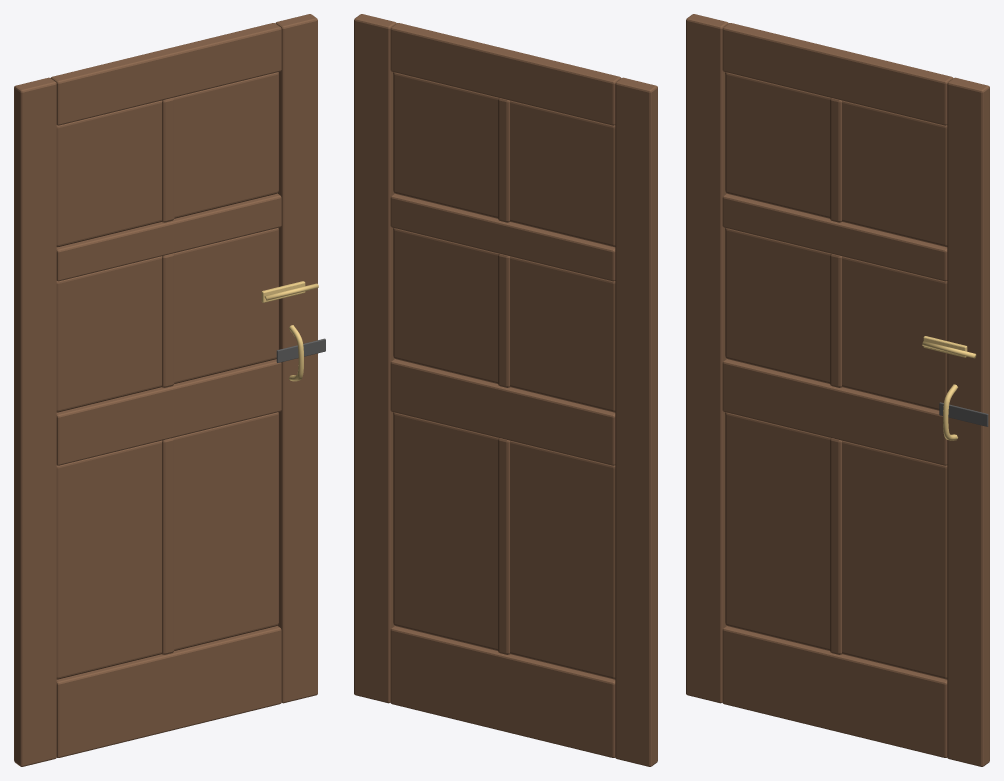
The model's file is door_leaf.glb.
3 views of the same model, side by side, from view 1: azimuth 30°, elevation 25°; view 2: azimuth 150°, elevation 25°; view 3: azimuth 330°, elevation 25° (orthographic).
Visible parts, largest first — view 1: door_leaf; view 2: door_leaf; view 3: door_leaf.
Boxes of the visible parts, x1,y1,x2,y2 form: door_leaf: (14, 14, 325, 766); door_leaf: (354, 14, 657, 766); door_leaf: (686, 14, 989, 766).
Bounding box in the file's own units: 1 × 2.13 × 0.109.
